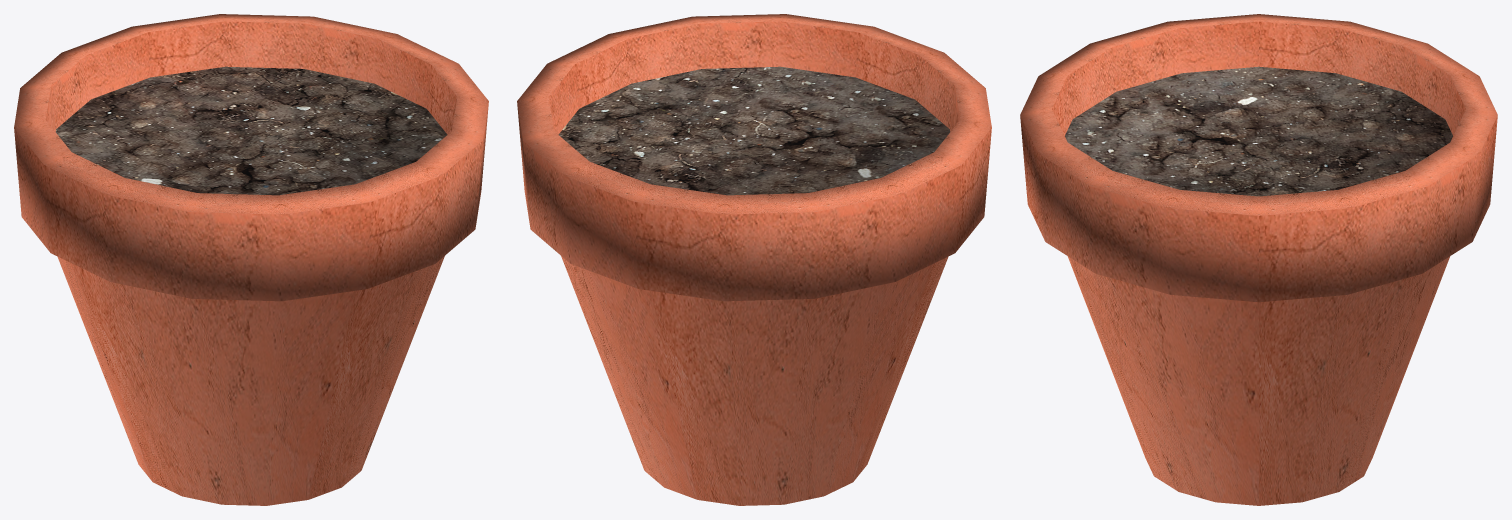
File: FlowerPot3grounded.fbx
3 views of the same model, side by side, from view 1: azimuth 30°, elevation 25°; view 2: azimuth 150°, elevation 25°; view 3: azimuth 270°, elevation 25° (orthographic).
Parts seen in each view (by area): view 1: FlowerPot3grounded_LOD0; view 2: FlowerPot3grounded_LOD0; view 3: FlowerPot3grounded_LOD0.
Boxes of the visible parts, box(x1,y1,x2,y2) form: FlowerPot3grounded_LOD0: box(14, 14, 488, 505); FlowerPot3grounded_LOD0: box(517, 14, 991, 505); FlowerPot3grounded_LOD0: box(1020, 14, 1497, 505).
Size of what is drawn, in the model's own units: 49.57 by 39.95 by 49.57.
